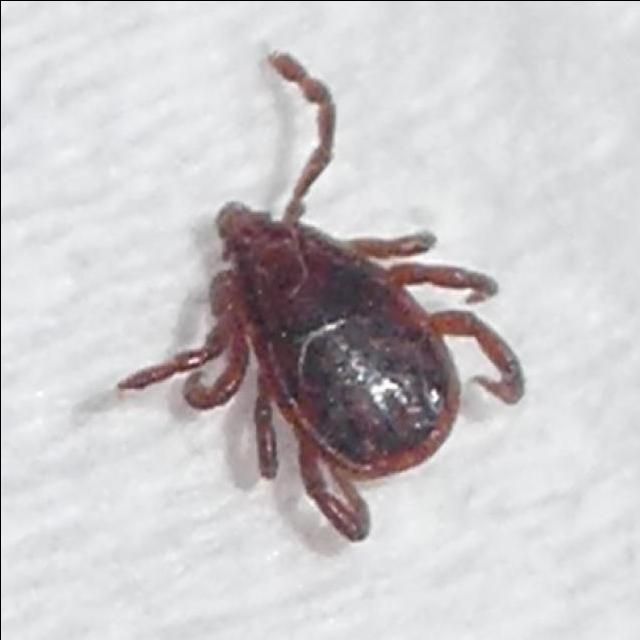Rhipicephalus Sanguineus-M: (114, 52, 526, 544)
